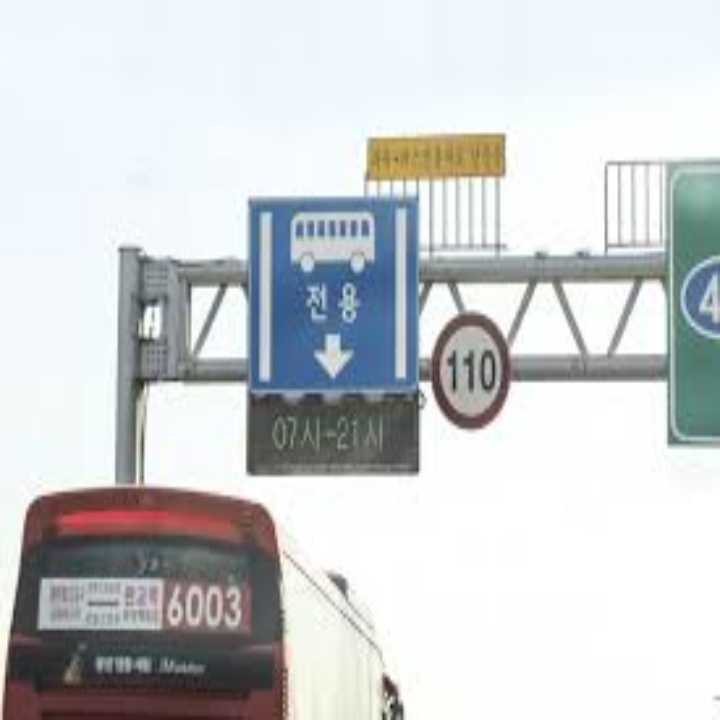bus: (279, 209, 388, 277)
